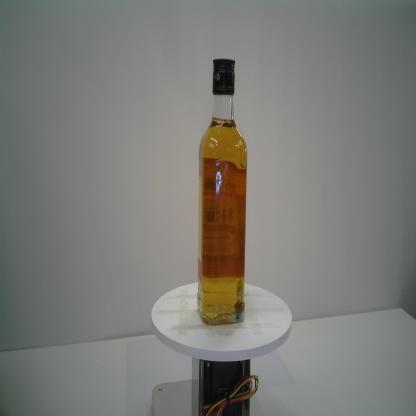Seasoner: (194, 57, 249, 328)
